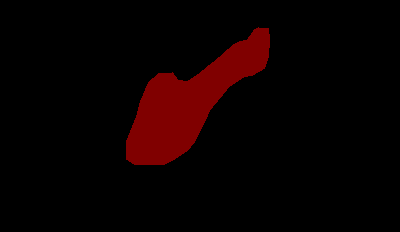fire: (126, 27, 269, 164)
